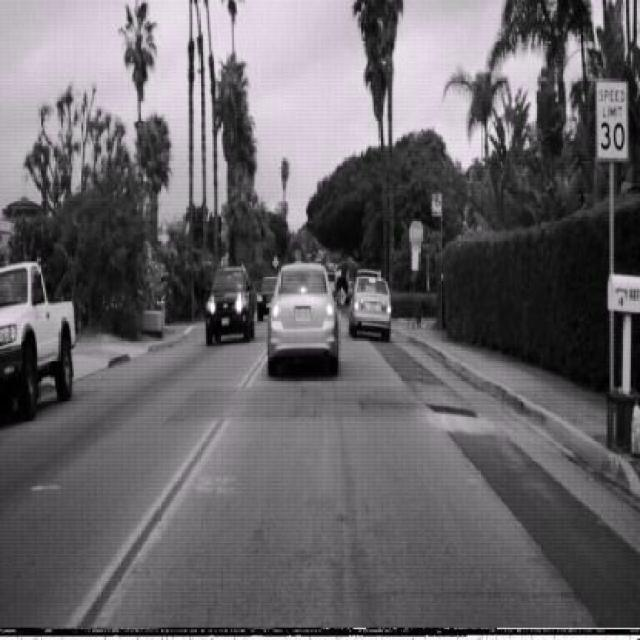stop: (409, 218, 425, 248)
